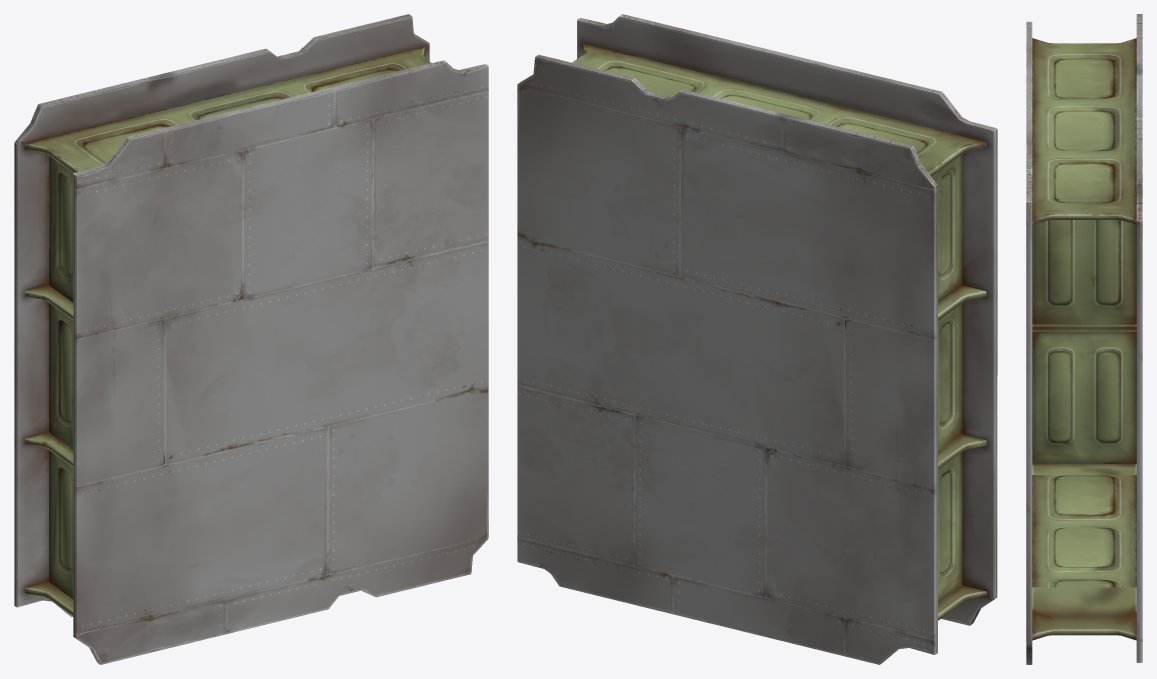
The model's file is Hub_Floor.FBX.
3 views of the same model, side by side, from view 1: azimuth 30°, elevation 25°; view 2: azimuth 150°, elevation 25°; view 3: azimuth 270°, elevation 25° (orthographic). The views are drawn at different scales.
Parts seen in each view (by area): view 1: HubFloor_LOD0; view 2: HubFloor_LOD0; view 3: HubFloor_LOD0.
Boxes of the visible parts, x1=… form: HubFloor_LOD0: x1=14, y1=14, x2=488, y2=664; HubFloor_LOD0: x1=517, y1=14, x2=997, y2=664; HubFloor_LOD0: x1=1026, y1=14, x2=1142, y2=664.
Size of what is drawn, in the model's own units: 14.91 by 17.95 by 3.89.
